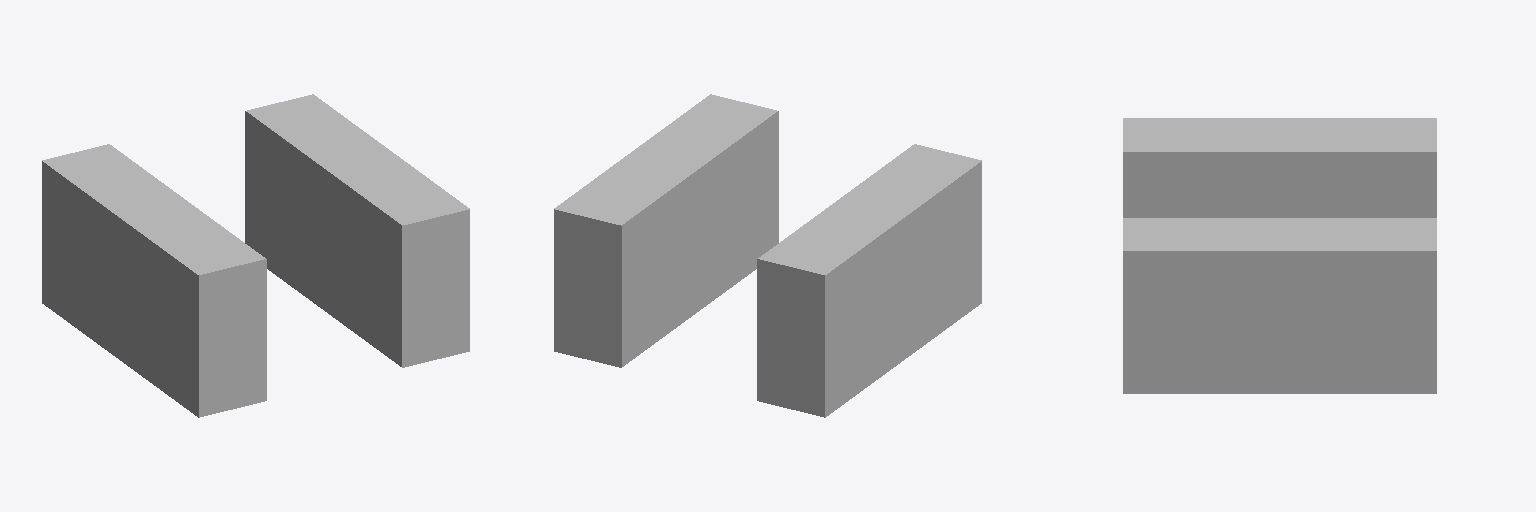
Rendered from 2_steps_walls_straight.obj.
3 views of the same model, side by side, from view 1: azimuth 30°, elevation 25°; view 2: azimuth 150°, elevation 25°; view 3: azimuth 270°, elevation 25° (orthographic).
Parts seen in each view (by area): view 1: object2, object1; view 2: object2, object1; view 3: object1, object2.
Part boxes in pixels (x1,y1,x2,y2): object2: (42,144,266,417); object1: (245,94,469,367); object2: (757,144,981,417); object1: (554,94,778,367); object1: (1123,218,1436,393); object2: (1123,118,1436,217).
Bounding box in the file's own units: 2 × 1 × 2.